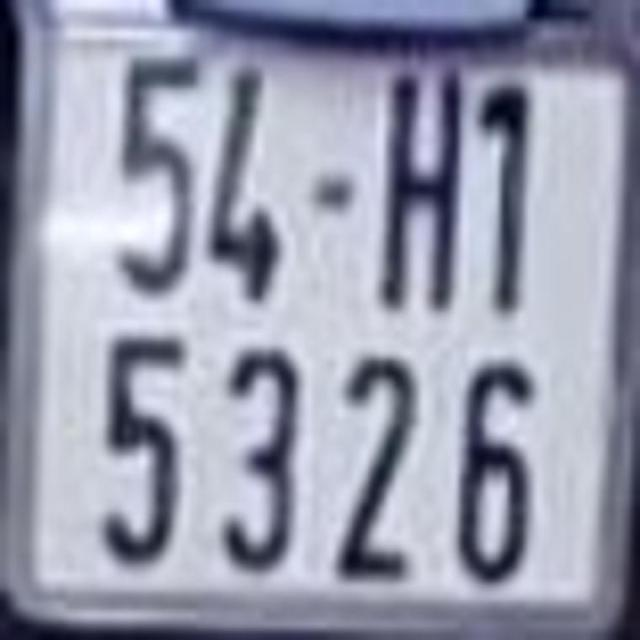1: (474, 66, 537, 313)
2: (335, 351, 419, 584)
3: (221, 336, 299, 575)
4: (207, 57, 286, 313)
5: (103, 324, 186, 570), (117, 56, 196, 301)
6: (452, 342, 542, 582)
H: (379, 64, 468, 315)
